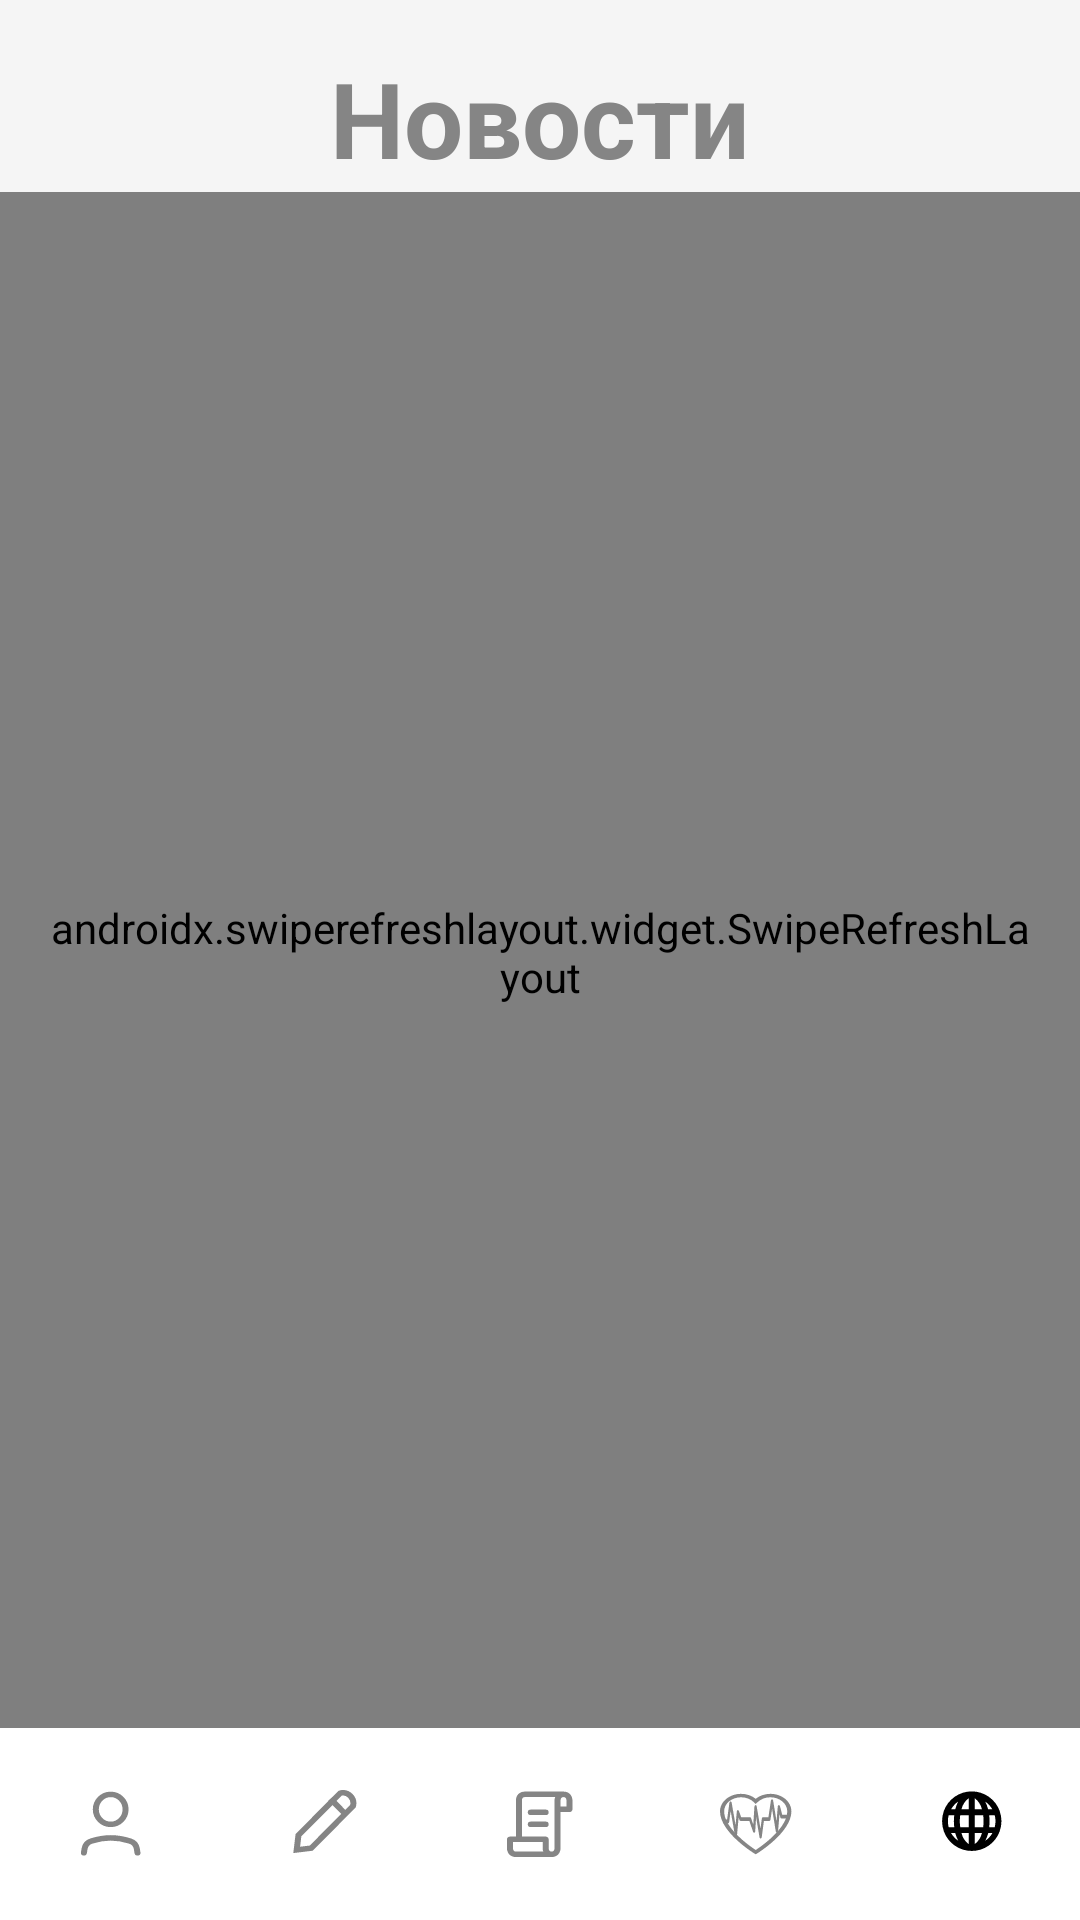

Named icons in this screenshot (1080px x 1920px) and their centers, (x,y):
edit: (325,1821)
heart: (756,1823)
profile: (111,1823)
scroll: (540,1824)
